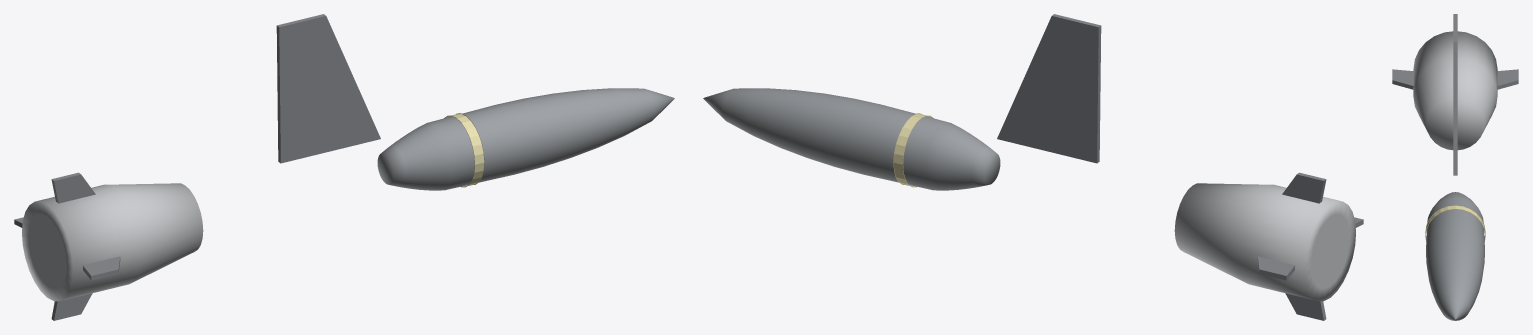
The model's file is RU_ASM_P5_LOD1.fbx.
3 renders of one model, left to right at view 1: azimuth 30°, elevation 25°; view 2: azimuth 150°, elevation 25°; view 3: azimuth 270°, elevation 25°, orthographic. The views are drawn at different scales.
Parts seen in each view (by area): view 1: WPN_RU_ASM_P5_LOD1_Body, WPN_RU_ASM_P5_LOD1_Tail, WPN_RU_ASM_P5_LOD1_Wings, WPN_RU_ASM_P5_LOD1_Fins, WPN_RU_ASM_P5_LOD1_Marking; view 2: WPN_RU_ASM_P5_LOD1_Body, WPN_RU_ASM_P5_LOD1_Tail, WPN_RU_ASM_P5_LOD1_Wings, WPN_RU_ASM_P5_LOD1_Fins, WPN_RU_ASM_P5_LOD1_Marking; view 3: WPN_RU_ASM_P5_LOD1_Tail, WPN_RU_ASM_P5_LOD1_Body, WPN_RU_ASM_P5_LOD1_Fins, WPN_RU_ASM_P5_LOD1_Wings, WPN_RU_ASM_P5_LOD1_Marking.
Boxes of the visible parts, bbox=[...] form: WPN_RU_ASM_P5_LOD1_Body: bbox=[377, 88, 674, 190]; WPN_RU_ASM_P5_LOD1_Tail: bbox=[22, 183, 203, 301]; WPN_RU_ASM_P5_LOD1_Wings: bbox=[276, 14, 380, 163]; WPN_RU_ASM_P5_LOD1_Fins: bbox=[14, 172, 120, 320]; WPN_RU_ASM_P5_LOD1_Marking: bbox=[444, 113, 484, 187]; WPN_RU_ASM_P5_LOD1_Body: bbox=[703, 88, 1000, 190]; WPN_RU_ASM_P5_LOD1_Tail: bbox=[1174, 183, 1355, 301]; WPN_RU_ASM_P5_LOD1_Wings: bbox=[997, 14, 1101, 163]; WPN_RU_ASM_P5_LOD1_Fins: bbox=[1257, 172, 1363, 320]; WPN_RU_ASM_P5_LOD1_Marking: bbox=[893, 113, 933, 187]; WPN_RU_ASM_P5_LOD1_Tail: bbox=[1413, 31, 1497, 150]; WPN_RU_ASM_P5_LOD1_Body: bbox=[1426, 192, 1484, 320]; WPN_RU_ASM_P5_LOD1_Fins: bbox=[1392, 14, 1518, 89]; WPN_RU_ASM_P5_LOD1_Wings: bbox=[1453, 23, 1457, 175]; WPN_RU_ASM_P5_LOD1_Marking: bbox=[1425, 205, 1485, 241].
Bounding box in the file's own units: 10 × 2.13 × 3.64.
